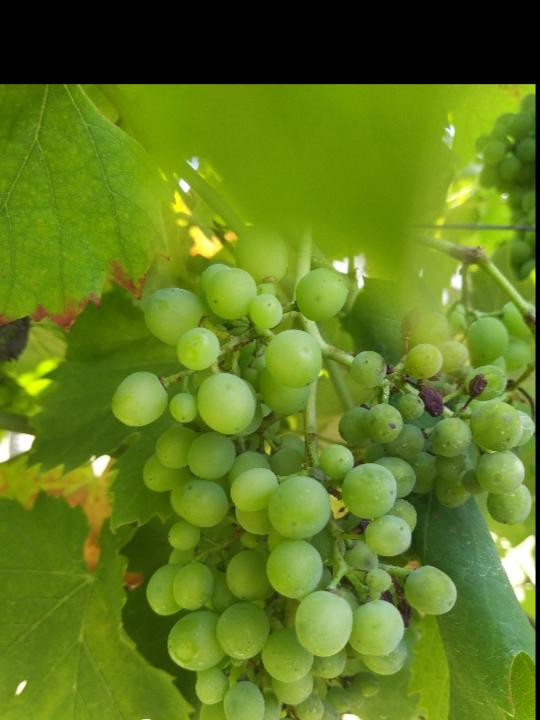grape: (105, 216, 529, 720)
